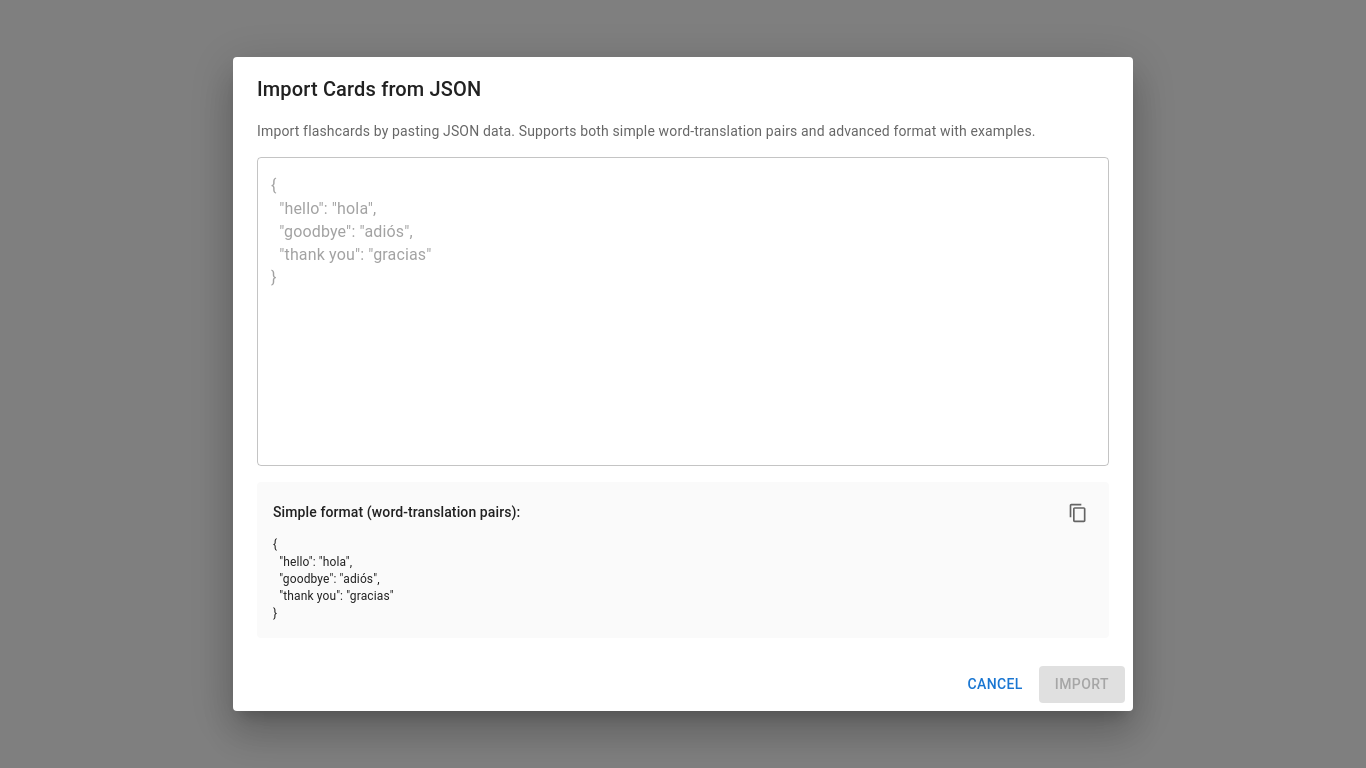
ImportDialog › should show error for invalid JSON
The width and height of the screenshot is (1366, 768).
Replace the text in the text box with "invalid json". click: (683, 312)
box: 271,174 -> 1095,450
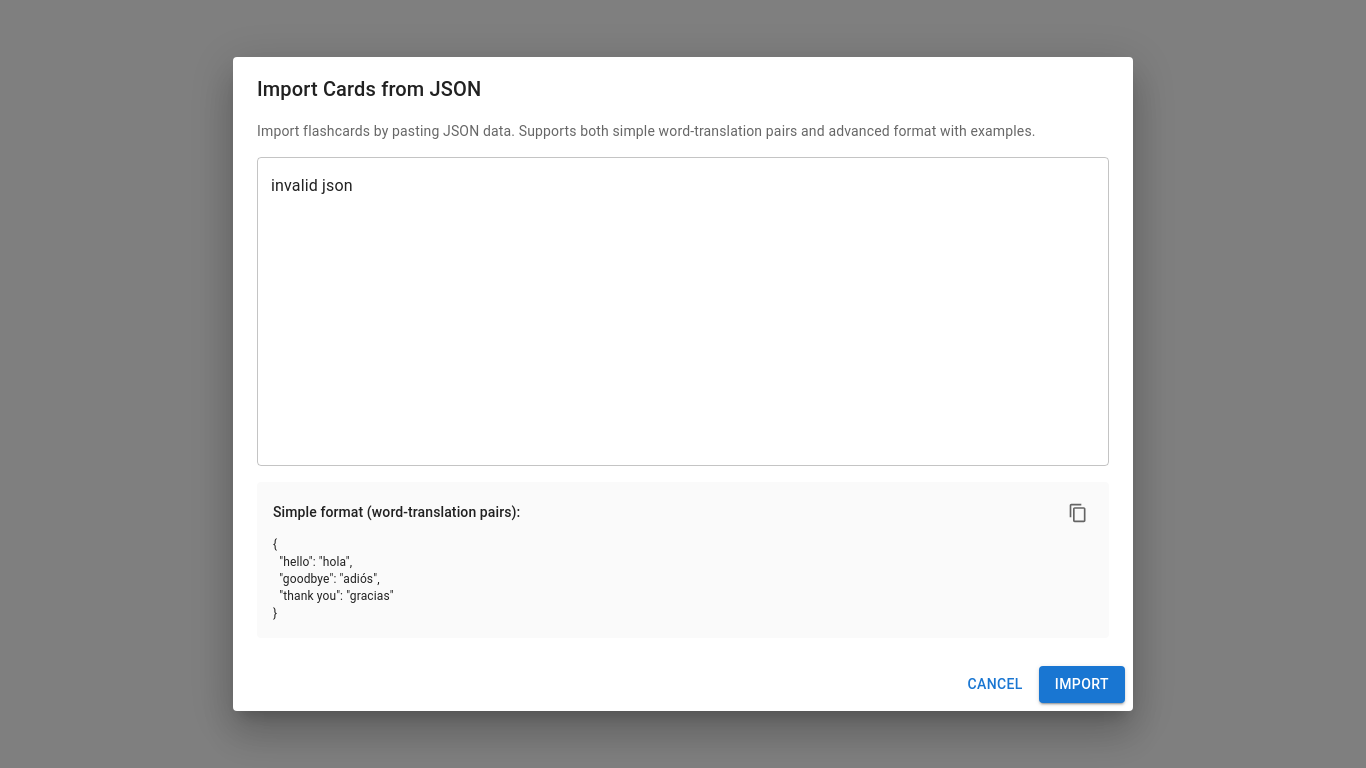
Click the button "Import". click: (1082, 684)
box: 1039,666 -> 1125,703
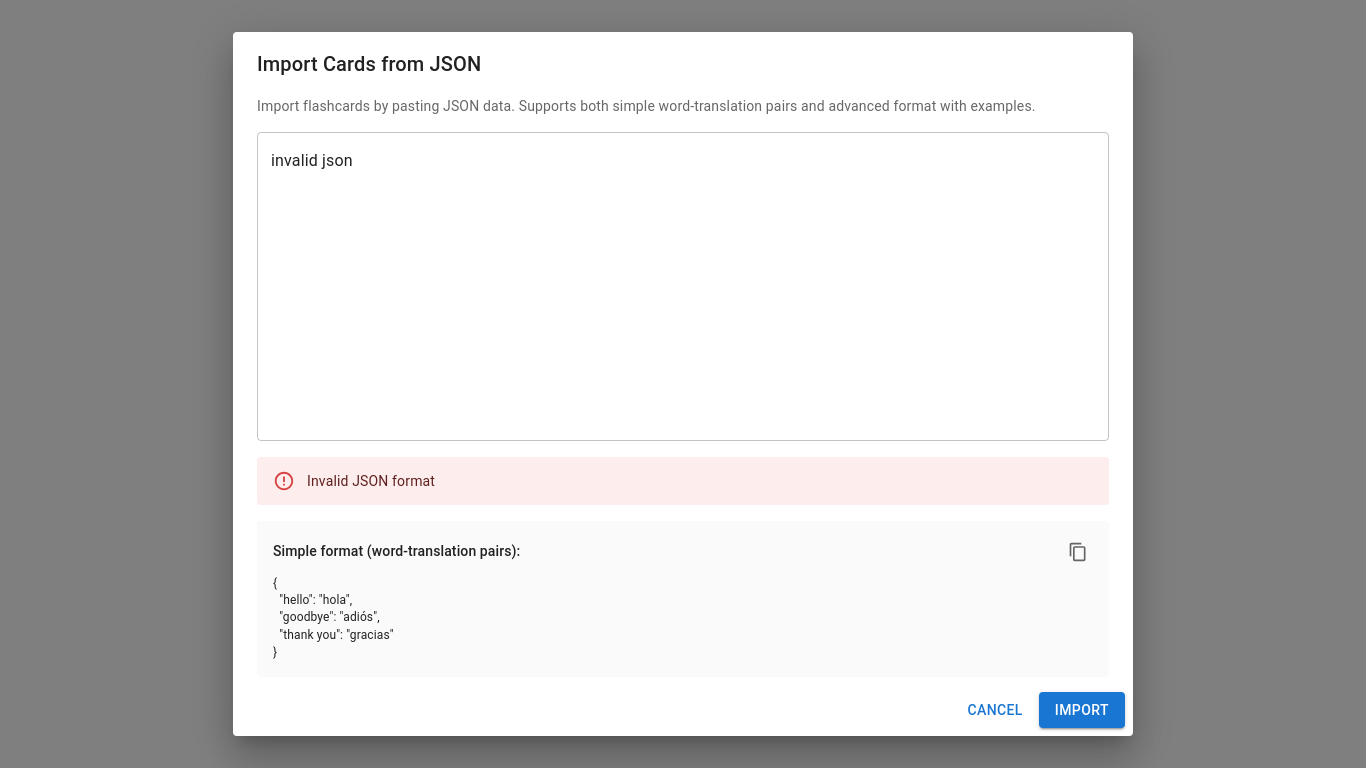
Now the text "Invalid JSON format" is shown, box 307,473 -> 435,489
